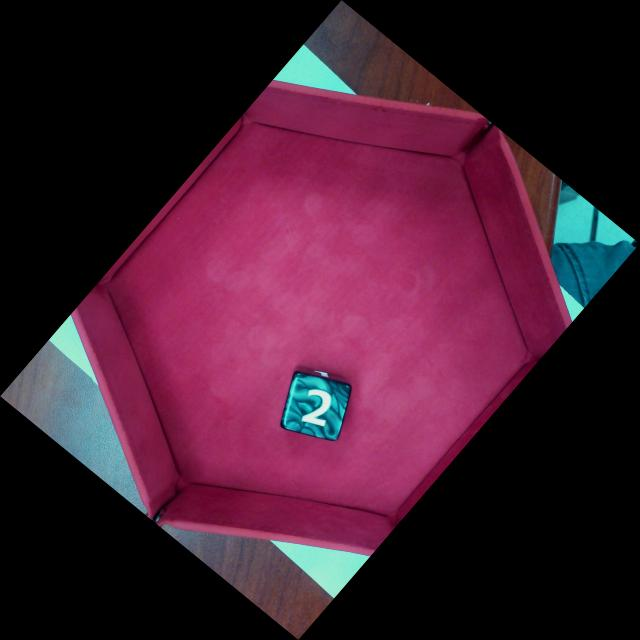dice: (278, 370, 355, 444)
